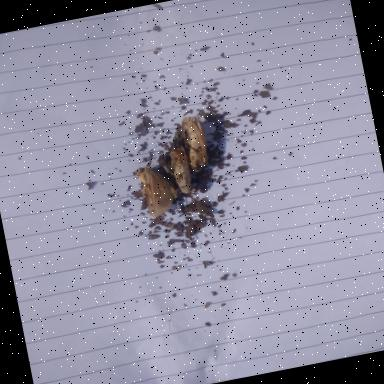abw: (158, 138, 210, 202), (173, 116, 214, 175), (130, 164, 176, 216)
